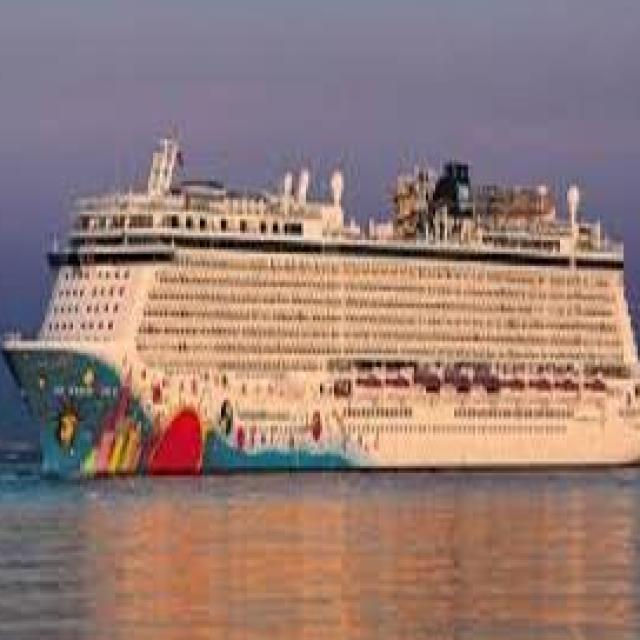passenger ship: (12, 138, 640, 470)
